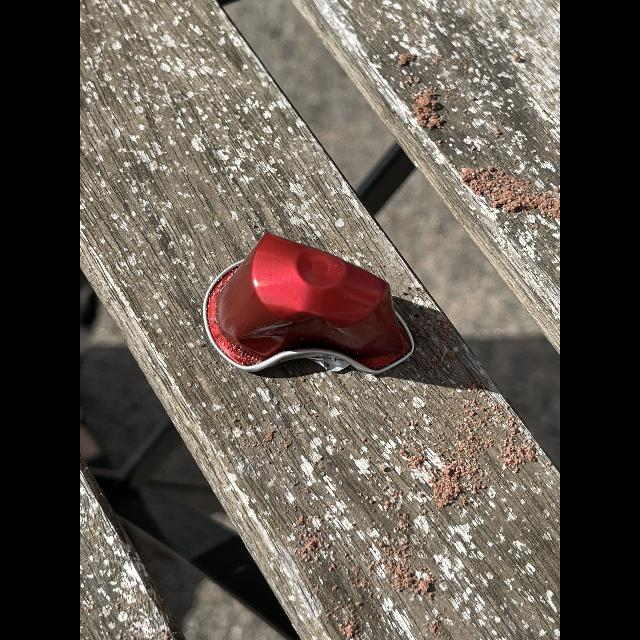damaged_capsule: (180, 216, 466, 404)
